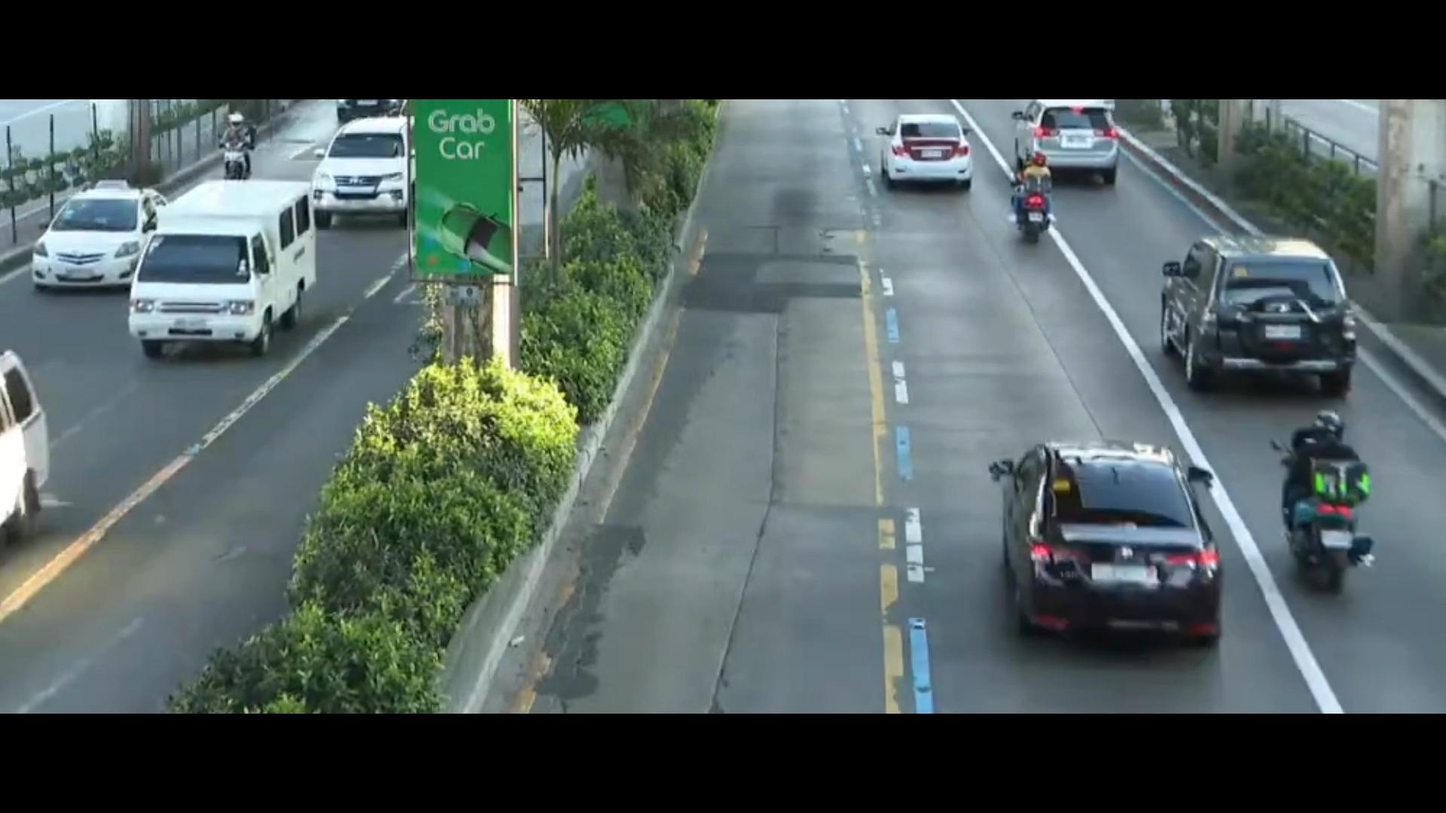Motorcycle: (1255, 415, 1416, 611), (1007, 144, 1072, 256), (202, 108, 269, 179)
Multicab: (121, 174, 339, 364)
SUV: (1124, 216, 1376, 404), (310, 113, 435, 236), (1003, 103, 1133, 194)
Sedan: (970, 415, 1242, 663), (25, 171, 159, 298), (877, 111, 989, 196)
